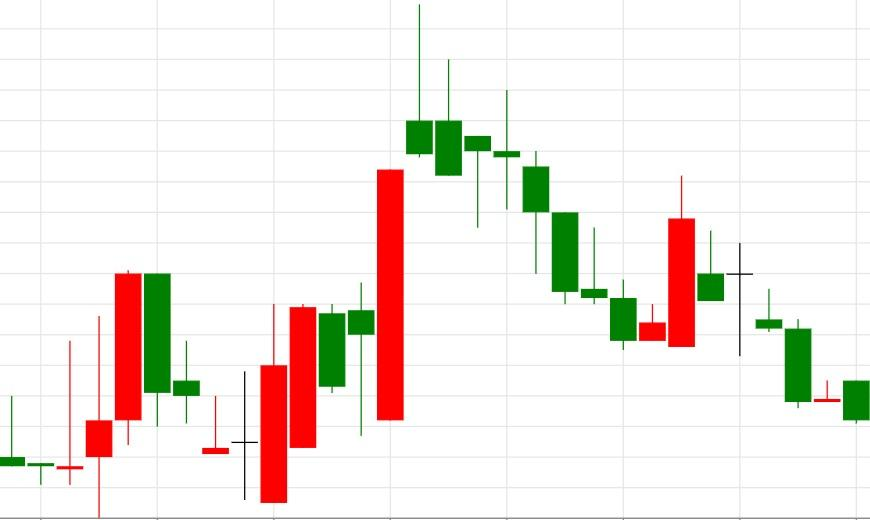shooting_star_fall: (259, 4, 434, 503)
